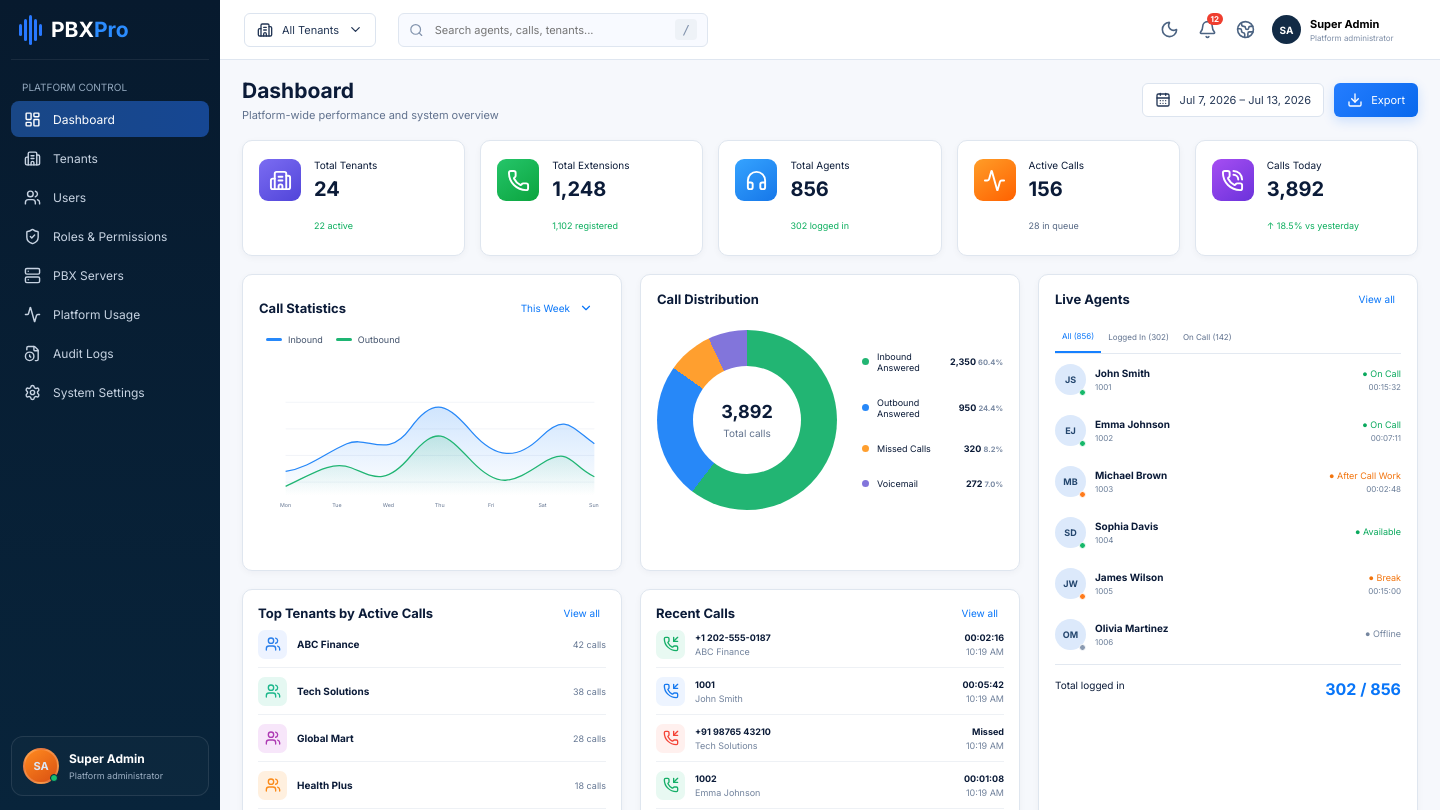
Scenario: Super Admin tenant management › loads real tenants and opens the onboarding form
This screenshot has width=1440, height=810.
Click the button "Tenants". click: (110, 158)
box: [11,140,209,176]
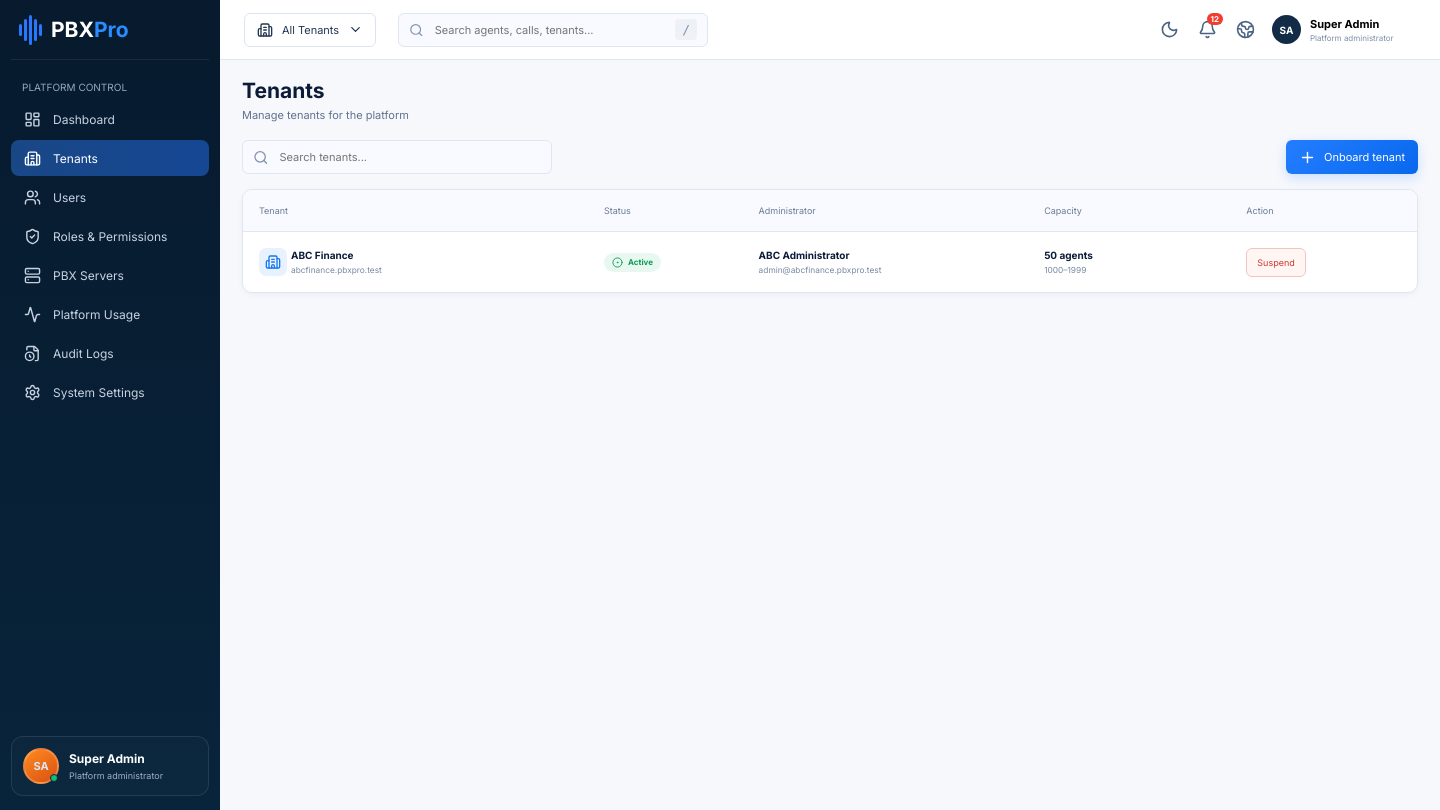
Result: the text "admin@abcfinance.pbxpro.test" is shown at [759,265,882,275]
Click the button "Onboard tenant". click: (1352, 157)
box: [1286,140,1418,174]
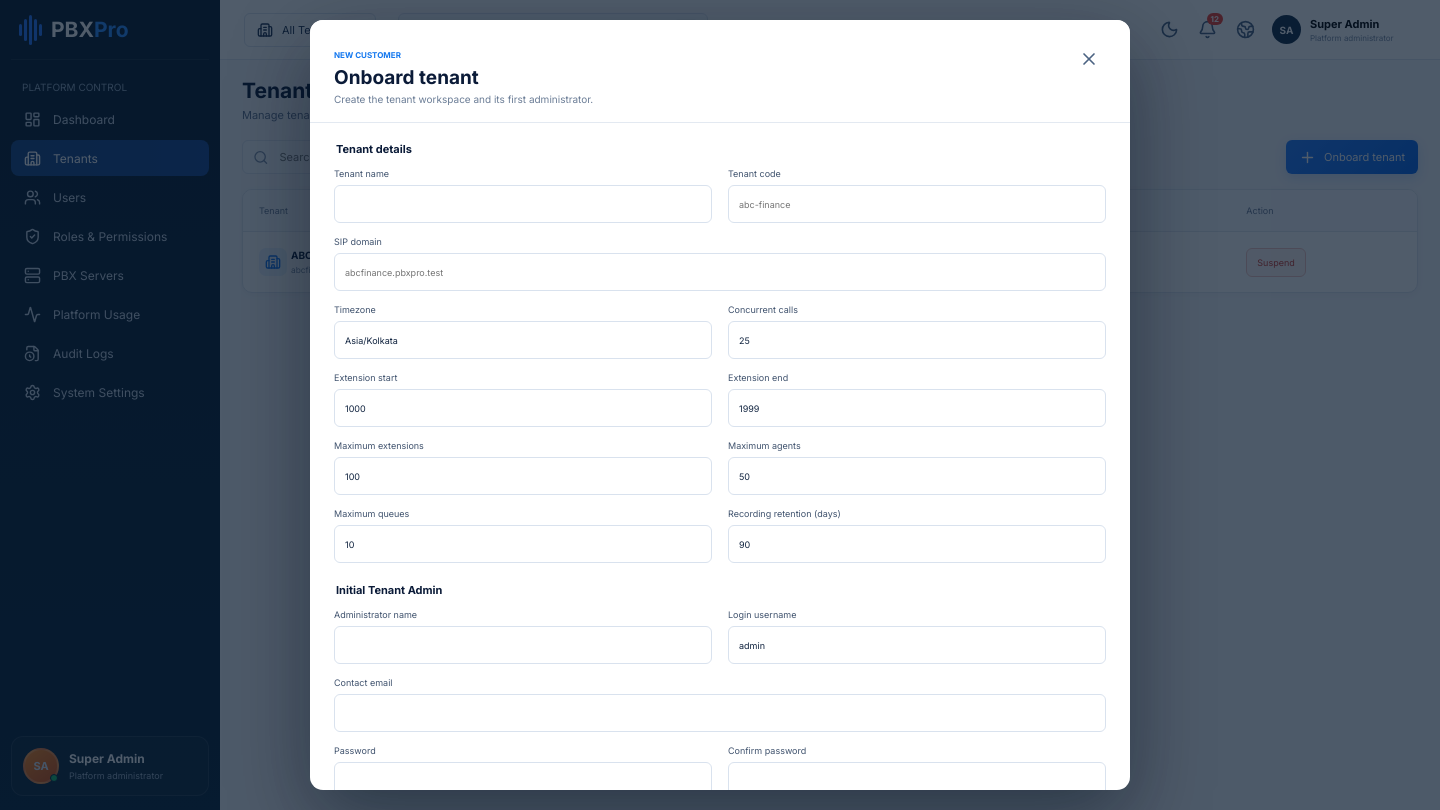
Result: the heading "Onboard tenant" is shown at [334,66,479,89]
